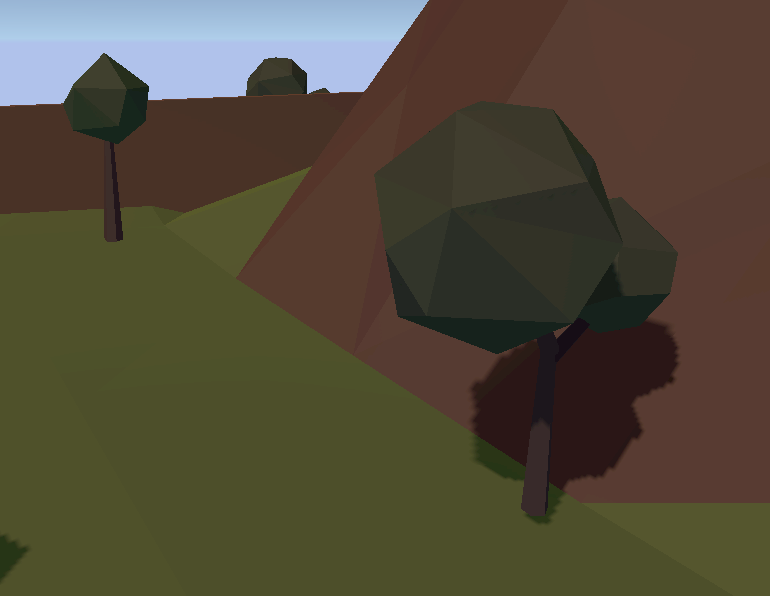tree: (369, 101, 683, 523), (62, 51, 158, 243), (242, 55, 315, 98)
